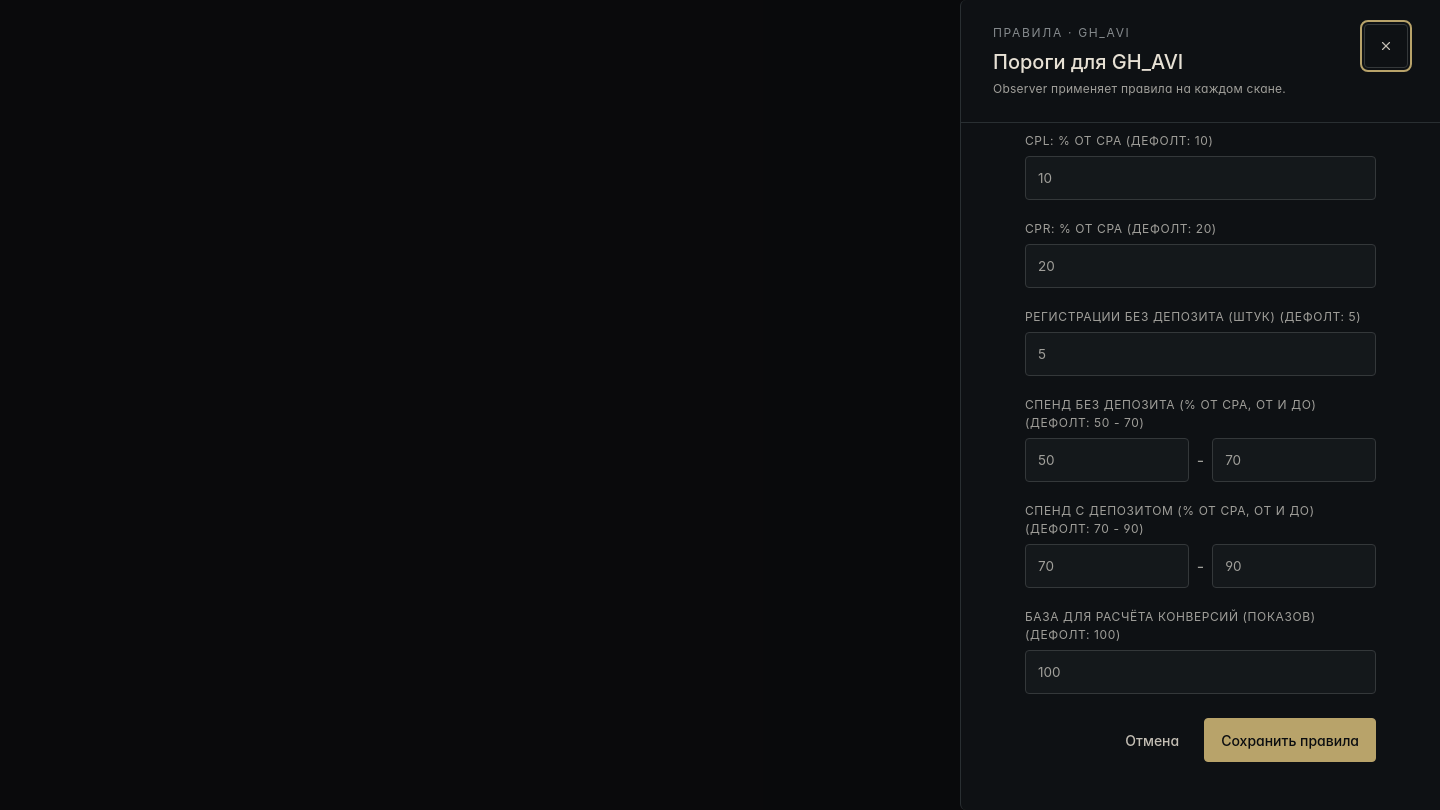
Test: RulesDrawer › не сохраняет пороги по первому клику
(page scrolled)
Click the button "Сохранить правила": (1290, 740) [1204, 718, 1376, 762]
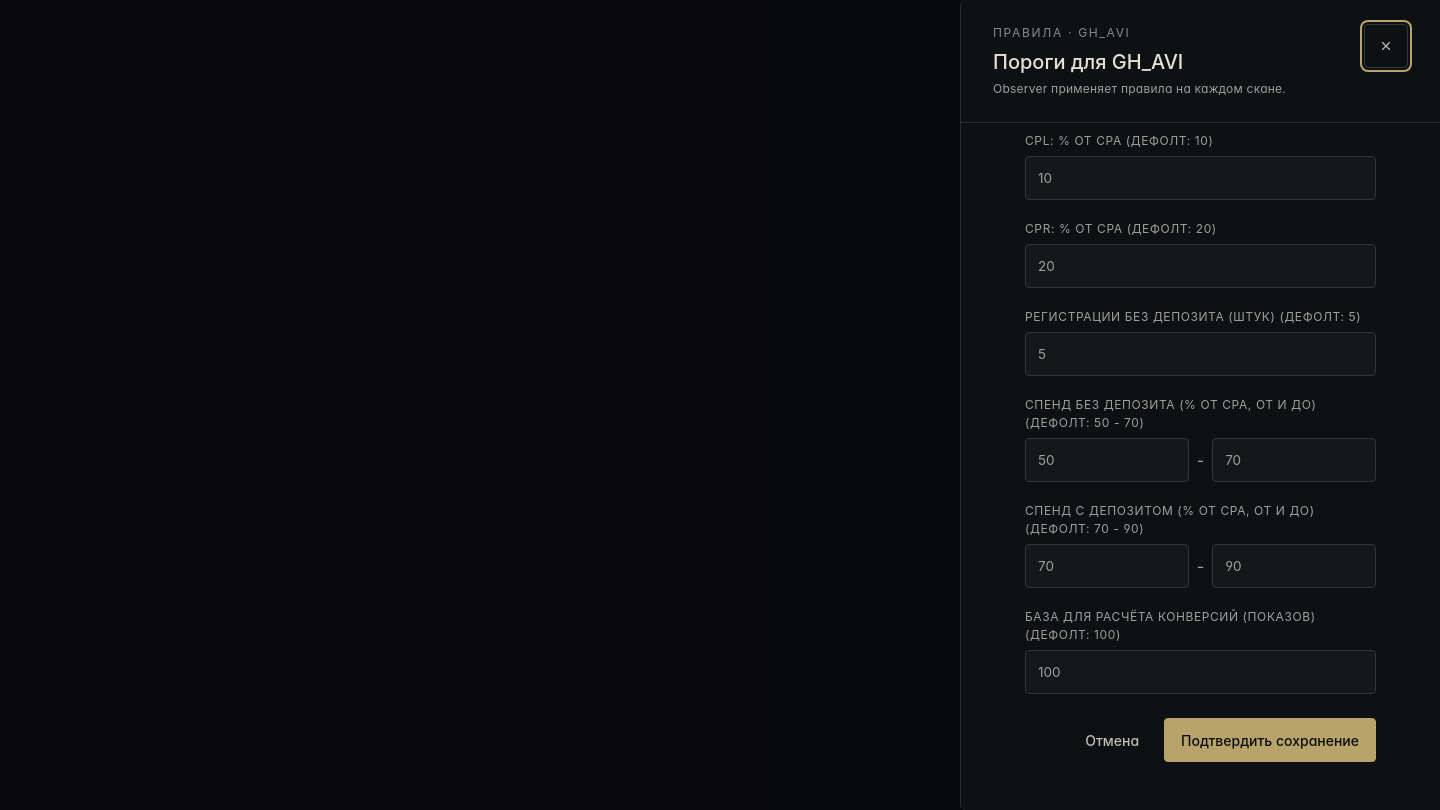
Check: the button "Подтвердить сохранение" is shown, box [1164, 718, 1376, 762]
